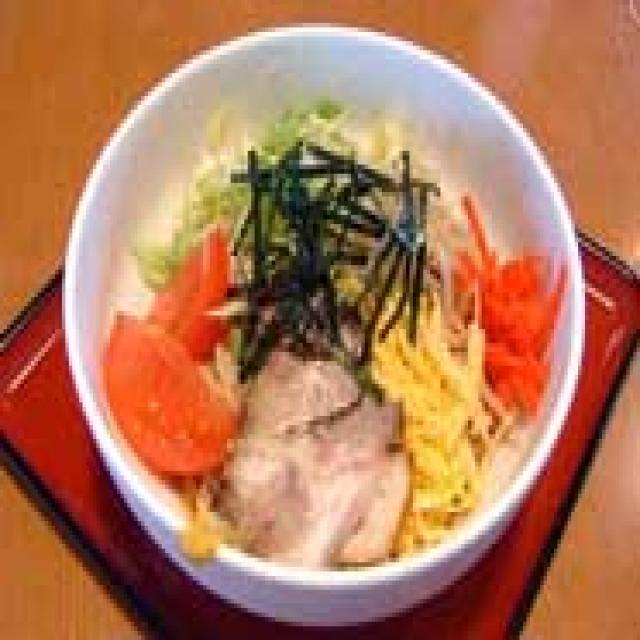面条主食: (110, 18, 640, 640)
